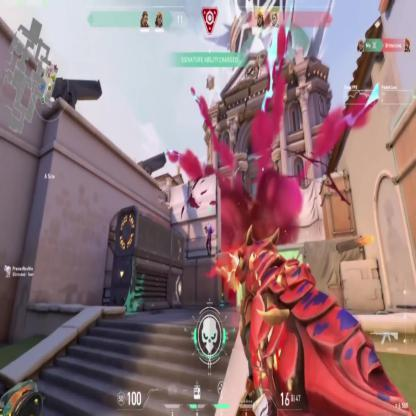enemy: (204, 220, 214, 258)
enemy_head: (207, 221, 210, 228)
